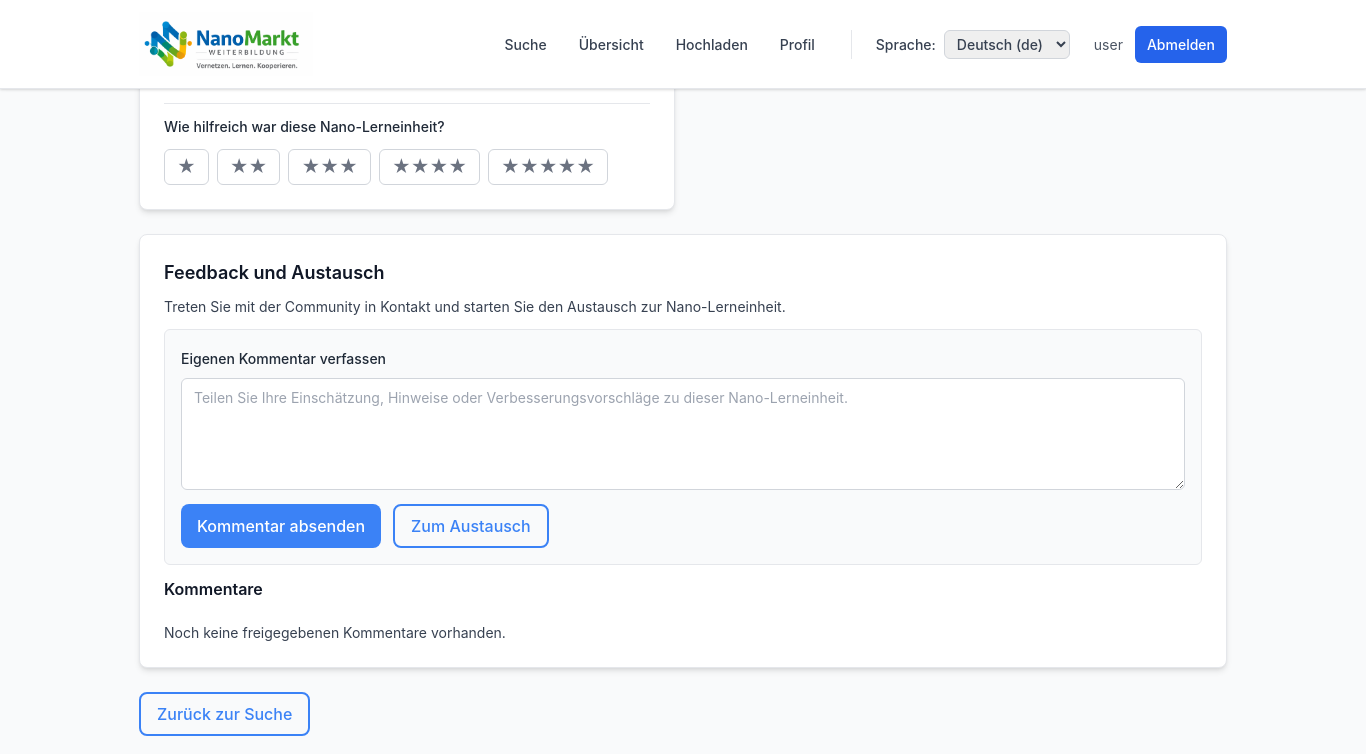
Test: NanoDetailsPage › shows neutral preview title when submitted comment is already approved
(page scrolled)
Replace the text in the text box labelled "Eigenen Kommentar verfassen" with "Schon freigegeben." at [683, 434], box x1=181 y1=378 x2=1185 y2=490
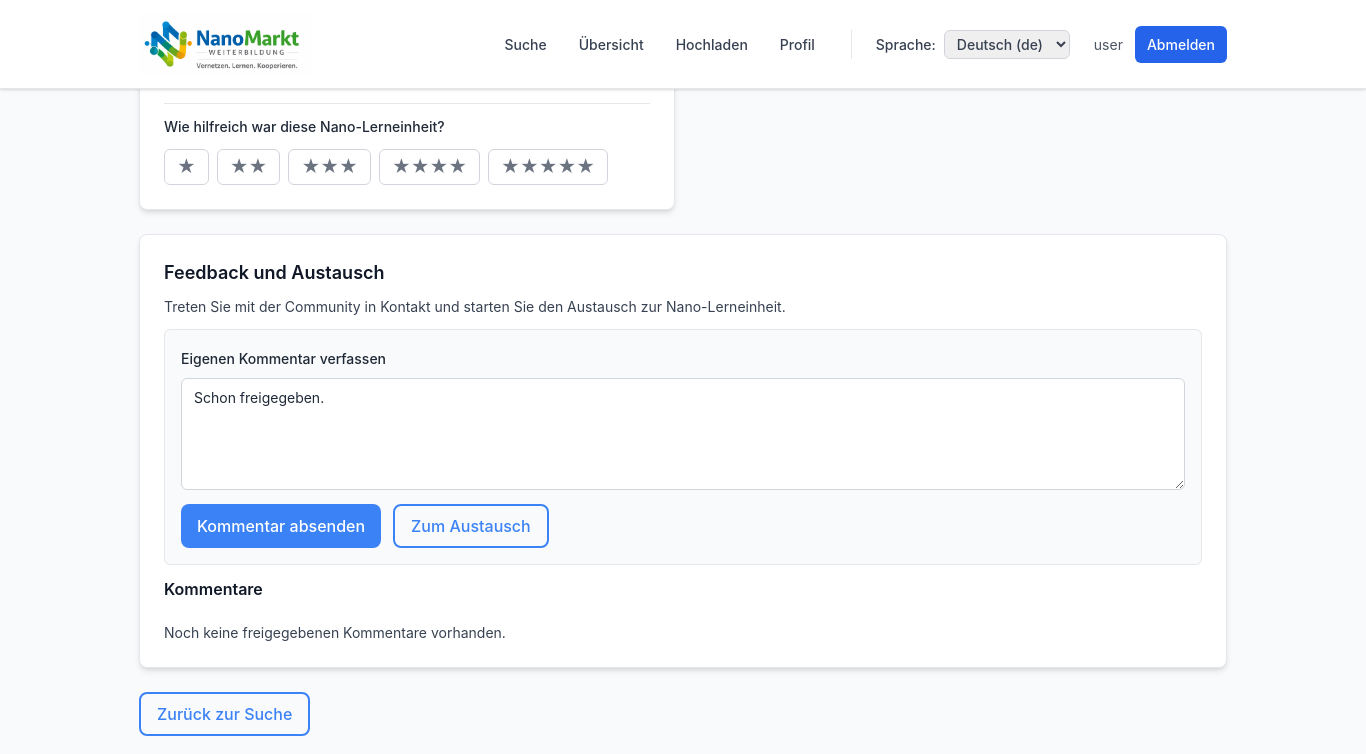
Click the button "Kommentar absenden" at [281, 526], box x1=181 y1=504 x2=381 y2=548
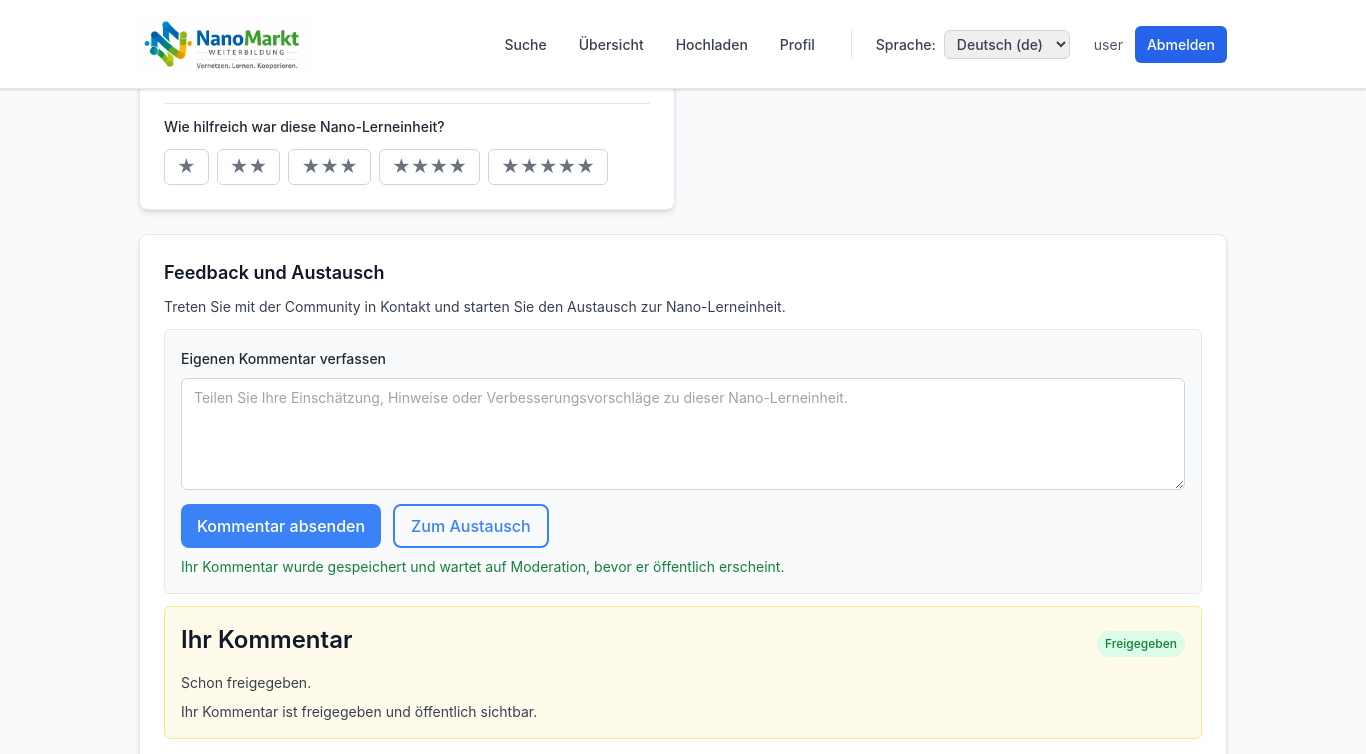
Expected: the heading "Ihr Kommentar" is shown, x1=181 y1=623 x2=352 y2=656
